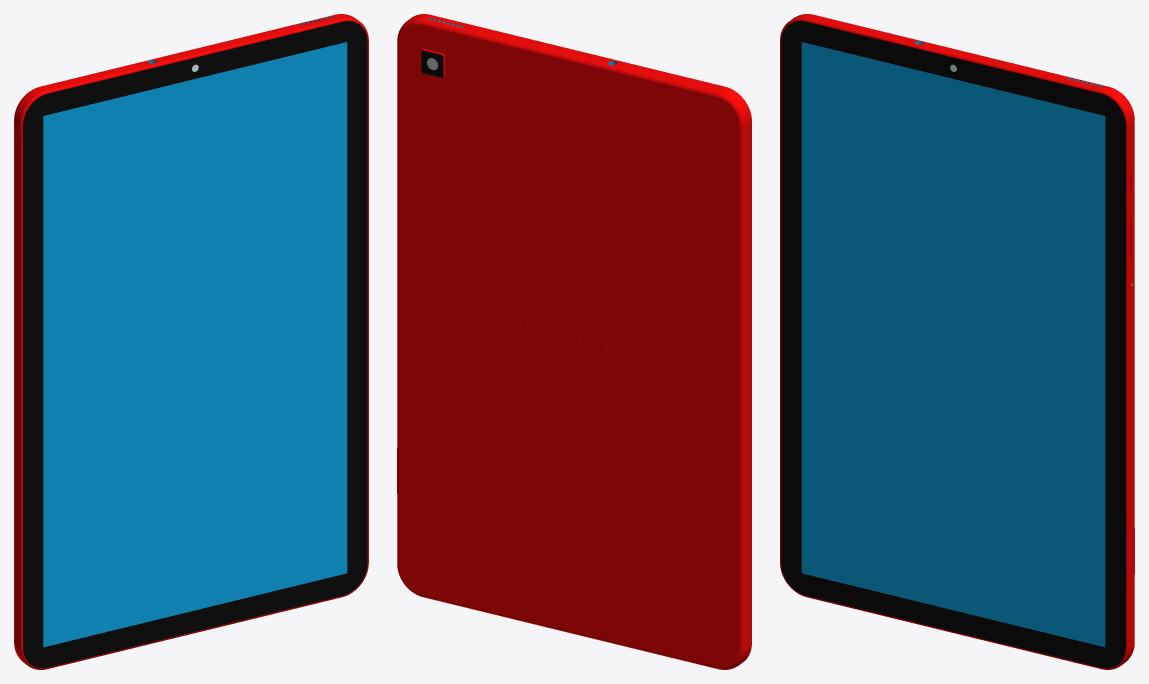
File: Samsung_Galaxy_Tab_S6_Lite.gltf
3 views of the same model, side by side, from view 1: azimuth 30°, elevation 25°; view 2: azimuth 150°, elevation 25°; view 3: azimuth 330°, elevation 25° (orthographic).
Visible parts, largest first — view 1: Samsung Galaxy Tab S6 Lite (×3); view 2: Samsung Galaxy Tab S6 Lite (×3); view 3: Samsung Galaxy Tab S6 Lite (×3).
Boxes of the visible parts, left/top/right/bottom form: Samsung Galaxy Tab S6 Lite (×3): left=14, top=14, right=368, bottom=669; Samsung Galaxy Tab S6 Lite (×3): left=397, top=14, right=751, bottom=669; Samsung Galaxy Tab S6 Lite (×3): left=780, top=14, right=1134, bottom=669.
Bounding box in the file's own units: 0.1548 × 0.2445 × 0.0075.
